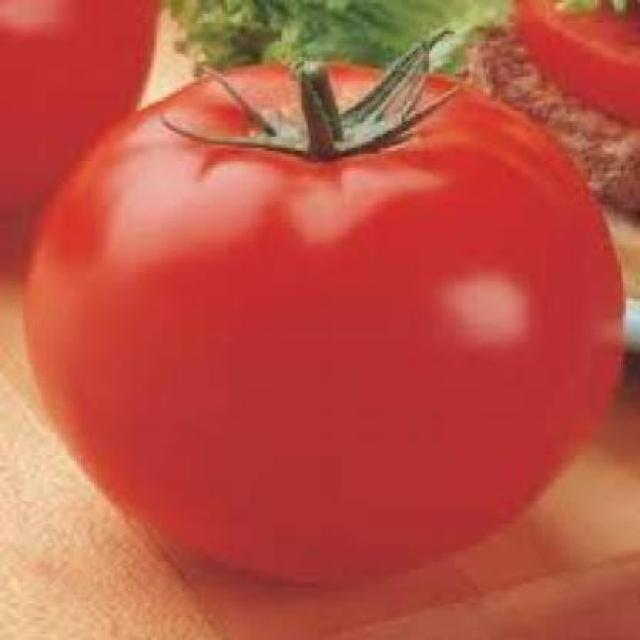BIODEGRADABLE: (20, 57, 623, 580), (0, 0, 157, 282), (168, 0, 512, 83), (474, 31, 638, 202), (514, 0, 638, 123)
